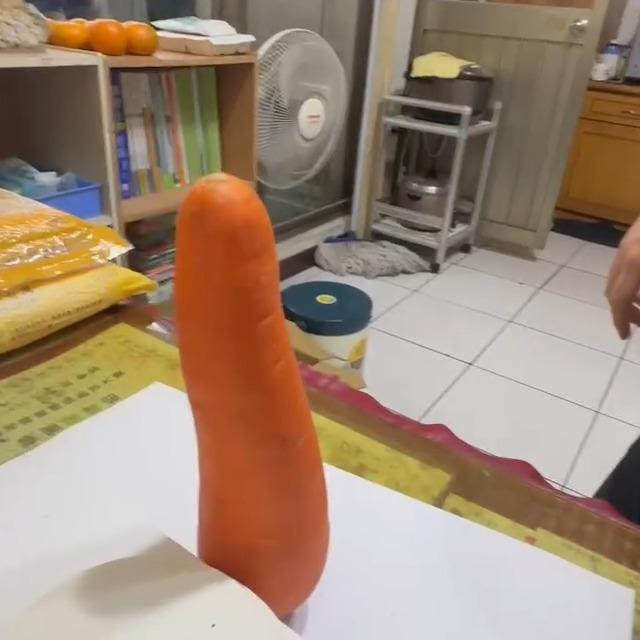carrot: (174, 174, 333, 620)
